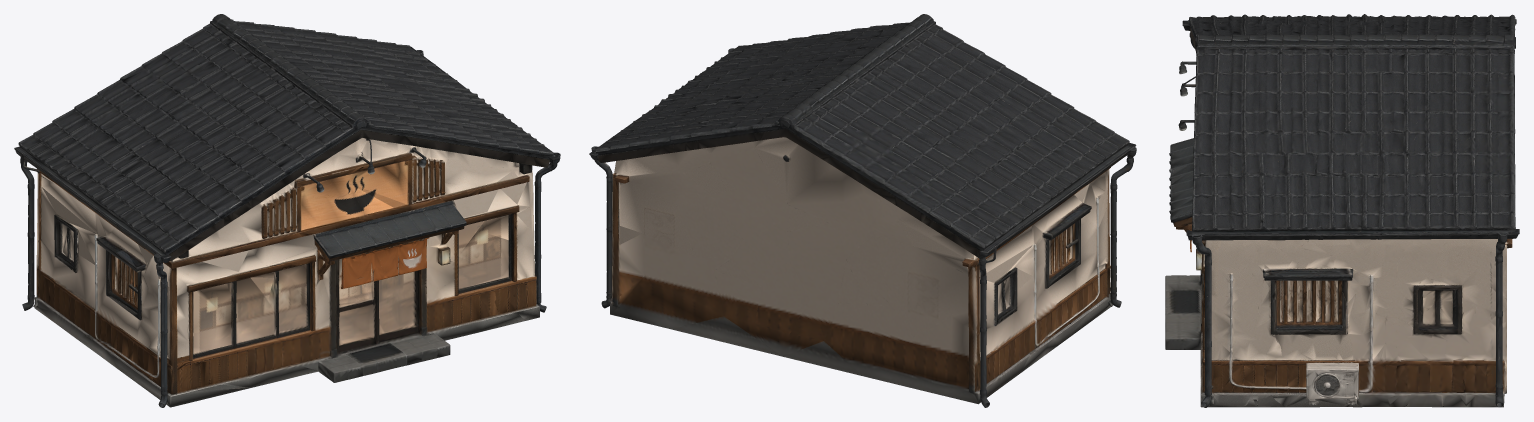
The model's file is building_restaurant_small_model.glb.
3 views of the same model, side by side, from view 1: azimuth 30°, elevation 25°; view 2: azimuth 150°, elevation 25°; view 3: azimuth 270°, elevation 25° (orthographic). The views are drawn at different scales.
Parts seen in each view (by area): view 1: Mesh_0; view 2: Mesh_0; view 3: Mesh_0.
Boxes of the visible parts, bbox=[...] form: Mesh_0: bbox=[14, 14, 560, 407]; Mesh_0: bbox=[589, 14, 1136, 407]; Mesh_0: bbox=[1165, 14, 1519, 407].
Size of the model in its own units: 8.33 by 4.8 by 5.62.
1 material, 1 textured.
